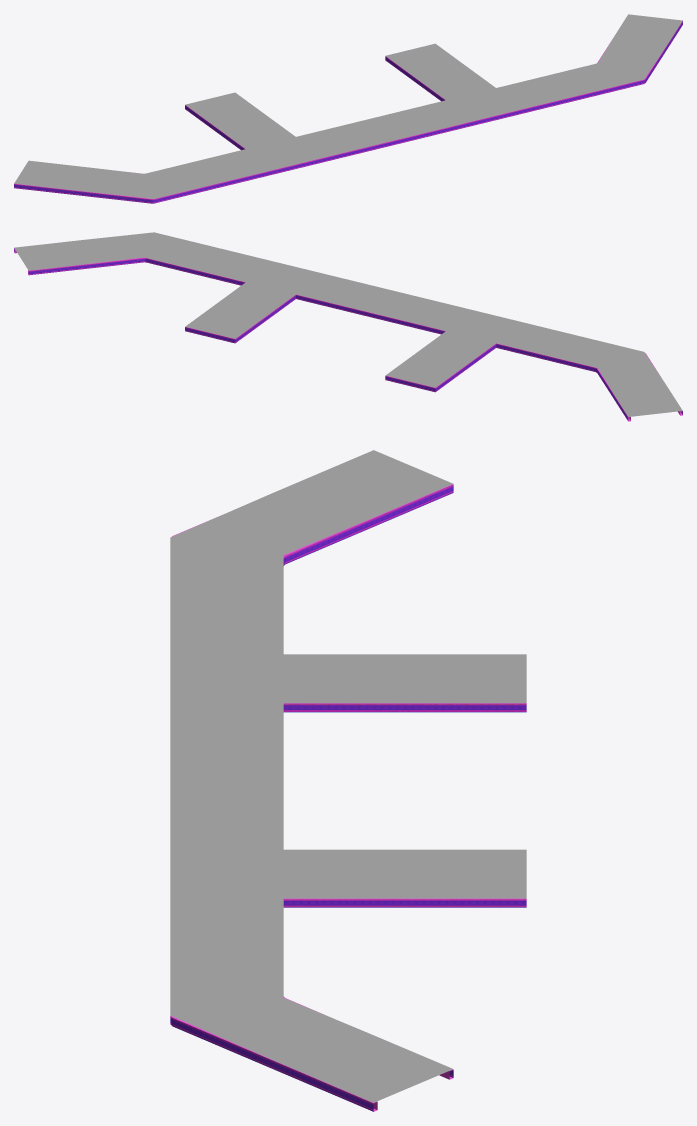
File: FacilityWalkway_01_SM_Low.fbx
3 renders of one model, top to bottom at view 1: azimuth 30°, elevation 25°; view 2: azimuth 150°, elevation 25°; view 3: azimuth 270°, elevation 25°, orthographic. The views are drawn at different scales.
Parts seen in each view (by area): view 1: facility_walkway_mesh_geo, polySurface1; view 2: facility_walkway_mesh_geo, polySurface1; view 3: facility_walkway_mesh_geo, polySurface1.
Boxes of the visible parts, box(x1,y1,x2,y2) form: facility_walkway_mesh_geo: box(14, 14, 682, 198); polySurface1: box(14, 21, 682, 203); facility_walkway_mesh_geo: box(14, 232, 682, 416); polySurface1: box(14, 232, 682, 421); facility_walkway_mesh_geo: box(170, 450, 526, 1102); polySurface1: box(170, 484, 526, 1111).
Size of the model in its own units: 2718 by 17.54 by 627.
2 materials, 1 textured.
